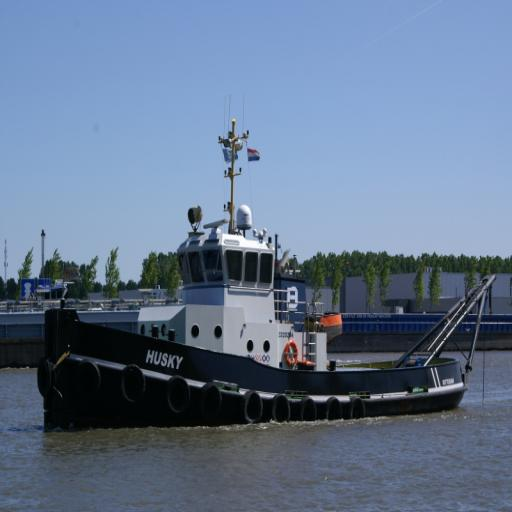tugboat: (34, 90, 500, 446)
